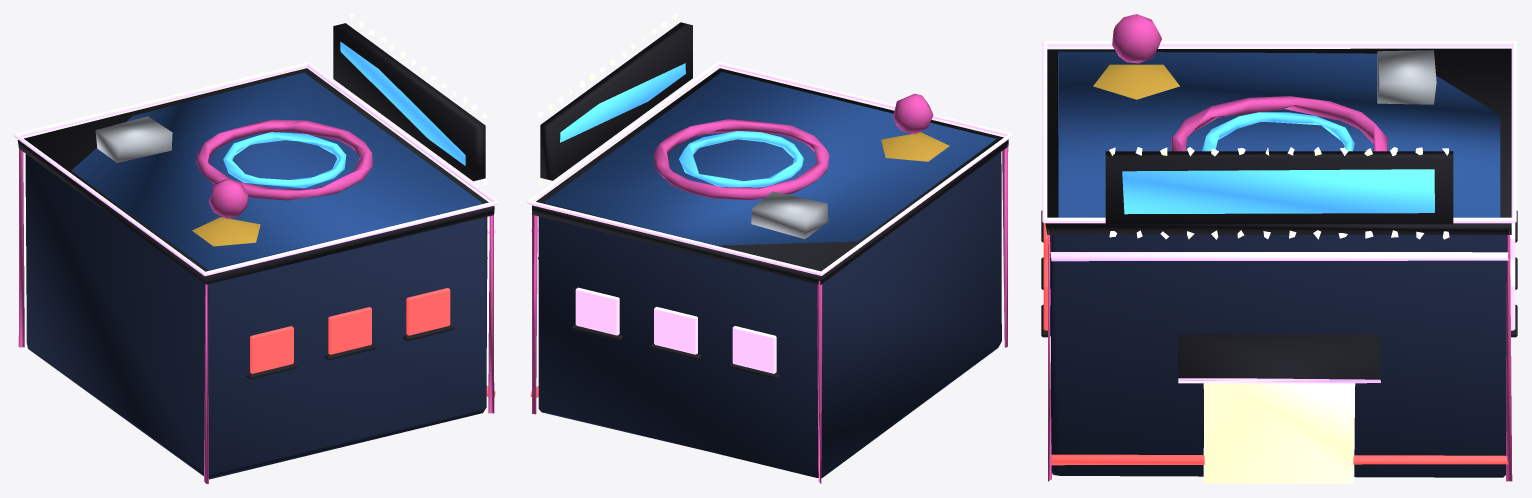
File: arcade.glb
The picture shows the model from 3 angles, left to right: view 1: azimuth 30°, elevation 25°; view 2: azimuth 150°, elevation 25°; view 3: azimuth 270°, elevation 25°; orthographic projection. The views are drawn at different scales.
Parts seen in each view (by area): view 1: arcade; view 2: arcade; view 3: arcade.
Boxes of the visible parts, x1,y1,x2,y2 form: arcade: (14,14,498,483); arcade: (527,14,1012,483); arcade: (1041,14,1517,483).
Size of the model in its own units: 9.55 by 7.48 by 9.34.
Materials: 1 (1 with a texture image).
